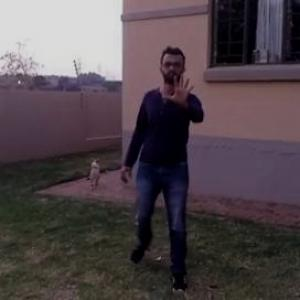follow_hand: (158, 68, 200, 112)
